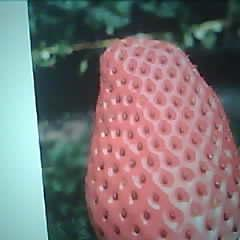straw-ripe: (86, 37, 240, 240)
